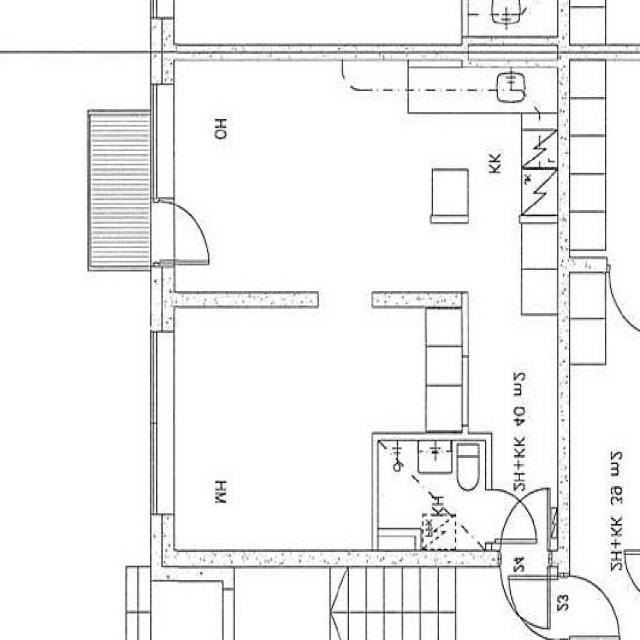door: (151, 205, 220, 263), (501, 487, 549, 566), (501, 549, 549, 627), (486, 489, 534, 542)
